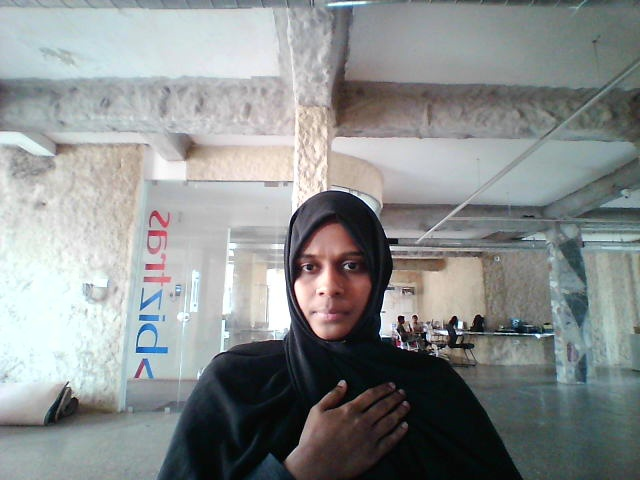PLEASE: (268, 368, 438, 469)
